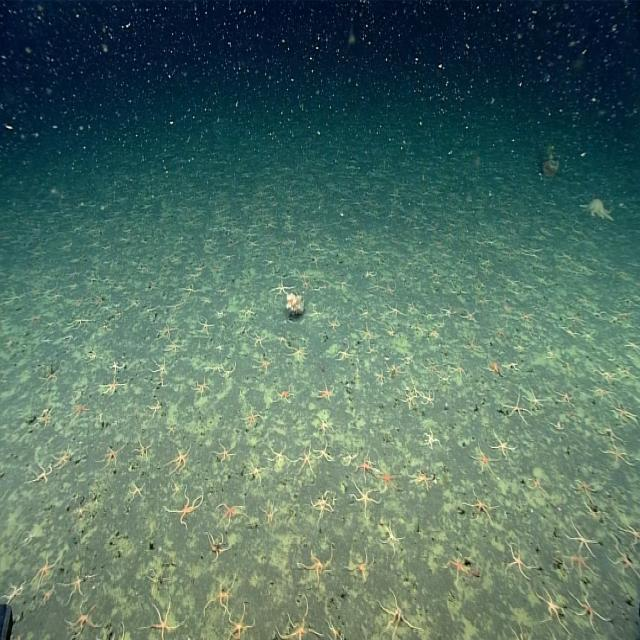brittle-stars: (569, 585, 608, 632), (535, 587, 566, 640), (273, 599, 313, 640), (607, 538, 640, 587), (461, 487, 498, 530), (377, 590, 412, 634), (564, 516, 598, 558), (167, 490, 206, 523), (503, 540, 534, 580), (350, 476, 382, 514), (66, 597, 97, 636), (300, 546, 333, 582), (226, 603, 258, 640), (148, 599, 177, 638), (609, 398, 640, 433), (602, 441, 633, 475), (204, 580, 233, 615), (468, 442, 495, 477), (502, 388, 528, 424), (216, 497, 244, 530), (165, 444, 192, 474), (35, 555, 59, 588), (446, 550, 470, 582), (377, 461, 400, 494), (491, 428, 514, 461), (205, 528, 230, 558), (574, 472, 599, 502), (349, 553, 374, 580), (381, 521, 402, 552), (356, 452, 381, 478), (296, 446, 316, 478), (239, 404, 264, 429), (29, 458, 53, 484), (53, 443, 75, 471), (322, 613, 344, 640), (65, 571, 86, 599), (99, 374, 123, 398), (594, 364, 618, 388), (309, 492, 332, 517), (212, 438, 234, 463), (413, 468, 435, 493), (270, 442, 290, 468), (101, 442, 120, 469), (449, 358, 468, 385), (526, 386, 546, 411), (315, 380, 334, 406), (274, 383, 295, 406), (554, 386, 574, 410), (135, 437, 153, 463), (245, 460, 264, 484), (422, 425, 439, 451), (156, 319, 177, 340), (248, 329, 268, 351), (288, 342, 308, 363), (459, 306, 479, 327), (401, 386, 418, 410), (192, 376, 212, 396), (461, 336, 481, 356), (314, 443, 332, 465), (528, 472, 546, 494), (259, 500, 276, 523), (420, 386, 437, 409), (197, 314, 213, 338), (164, 337, 184, 356), (68, 400, 88, 418), (36, 410, 53, 430), (128, 480, 145, 500), (359, 324, 376, 344), (151, 359, 169, 377), (272, 277, 289, 296), (386, 300, 402, 320), (255, 352, 270, 373), (398, 347, 416, 364), (338, 341, 352, 362), (342, 449, 358, 466), (326, 313, 340, 332), (374, 366, 387, 386), (309, 304, 323, 320), (367, 457, 373, 469)
